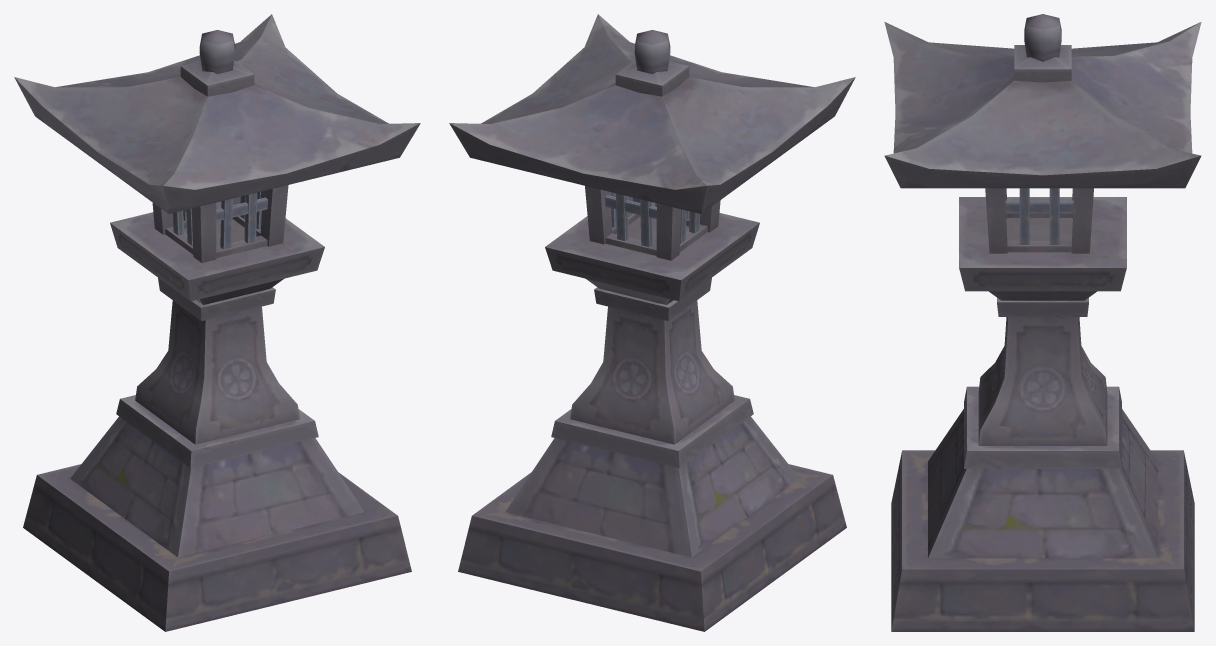
File: Homeworld_Exterior_Dq_Lamp_Stonelamp_10_Vo.fbx
3 views of the same model, side by side, from view 1: azimuth 30°, elevation 25°; view 2: azimuth 150°, elevation 25°; view 3: azimuth 270°, elevation 25° (orthographic). The views are drawn at different scales.
Visible parts, largest first — view 1: Area_Dq_Light_MS_Stonelamp_02_Vo; view 2: Area_Dq_Light_MS_Stonelamp_02_Vo; view 3: Area_Dq_Light_MS_Stonelamp_02_Vo.
Boxes of the visible parts, x1,y1,x2,y2 form: Area_Dq_Light_MS_Stonelamp_02_Vo: (14,14,420,631); Area_Dq_Light_MS_Stonelamp_02_Vo: (449,14,855,631); Area_Dq_Light_MS_Stonelamp_02_Vo: (884,14,1201,631).
Size of the model in its own units: 1 by 1.93 by 1.
